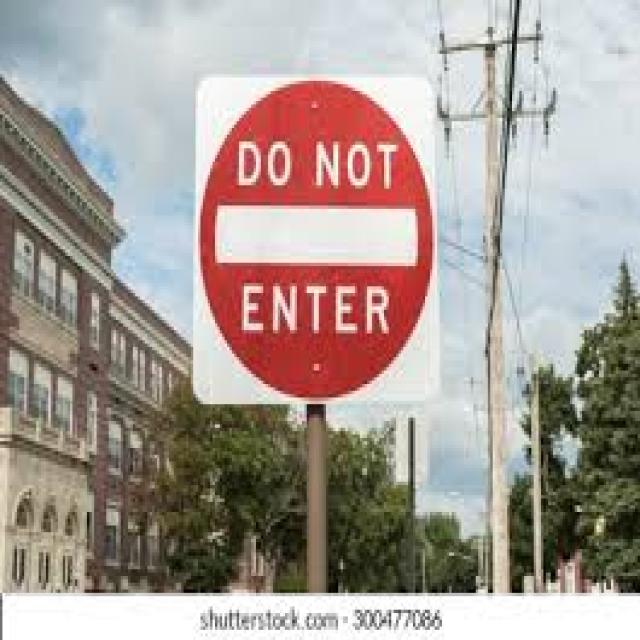doNotEnter: (195, 78, 434, 401)
